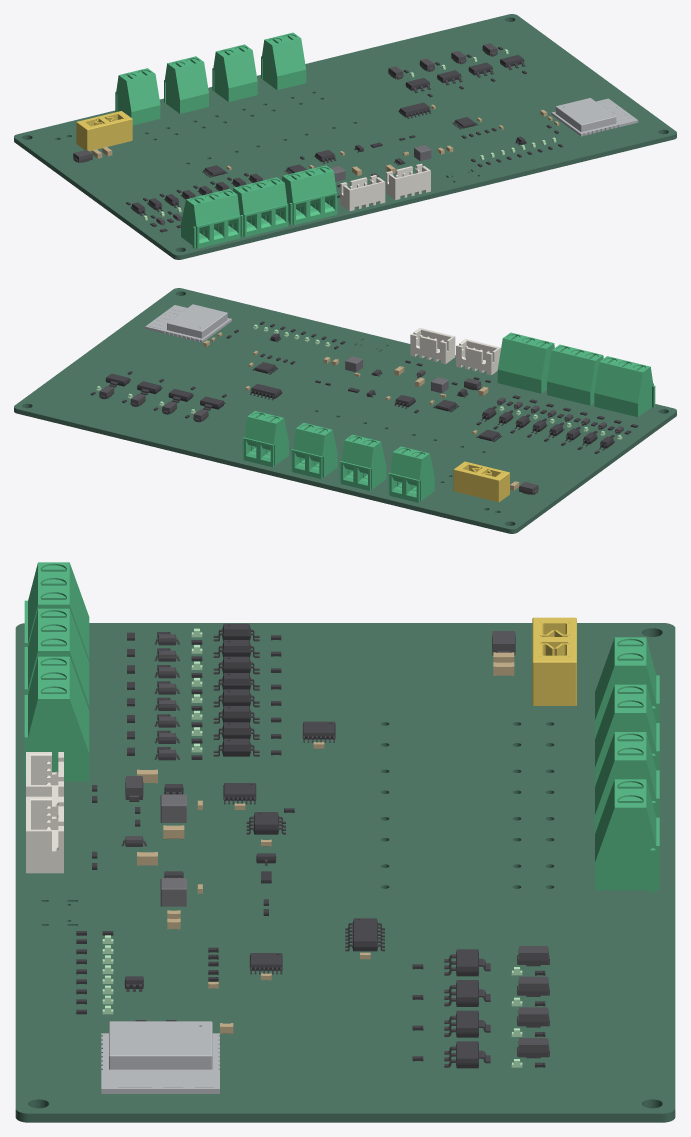
The picture shows the model from 3 angles, top to bottom: view 1: azimuth 30°, elevation 25°; view 2: azimuth 150°, elevation 25°; view 3: azimuth 270°, elevation 25°; orthographic projection. The views are drawn at different scales.
Visible parts, largest first — view 1: =>[0:1:1:26], J3, J5, J4, J8, J9, J7, U3, J6, F1, JL1, JL2; view 2: =>[0:1:1:26], J3, J5, J4, J7, J6, J9, J8, U3, F1, JL2, JL1; view 3: =>[0:1:1:26], U3, J9, J5, F1, J4, J6, J7, J8, J3, JL2, JL1 (+5 smaller).
Part boxes in pixels (<box>): =>[0:1:1:26]: <box>14,14,676,259</box>; J3: <box>181,189,240,248</box>; J5: <box>281,165,337,225</box>; J4: <box>233,177,288,237</box>; J8: <box>212,44,257,101</box>; J9: <box>261,32,306,90</box>; J7: <box>164,56,208,113</box>; U3: <box>551,98,638,136</box>; J6: <box>115,68,160,125</box>; F1: <box>76,111,132,151</box>; JL1: <box>340,175,385,211</box>; JL2: <box>386,163,430,199</box>; =>[0:1:1:26]: <box>14,288,676,533</box>; J3: <box>594,356,655,417</box>; J5: <box>497,332,554,393</box>; J4: <box>547,344,603,405</box>; J7: <box>339,434,386,490</box>; J6: <box>388,446,434,502</box>; J9: <box>242,411,288,467</box>; J8: <box>291,423,337,479</box>; U3: <box>145,304,231,342</box>; F1: <box>453,461,509,502</box>; JL2: <box>410,328,455,364</box>; JL1: <box>456,339,500,375</box>; =>[0:1:1:26]: <box>15,623,675,1122</box>; U3: <box>101,1021,219,1093</box>; J9: <box>595,779,659,892</box>; J5: <box>24,656,89,781</box>; F1: <box>532,617,576,705</box>; J4: <box>24,608,89,710</box>; J6: <box>595,637,659,738</box>; J7: <box>595,684,659,786</box>; J8: <box>595,732,659,833</box>; J3: <box>24,562,89,662</box>; JL2: <box>26,796,63,873</box>; JL1: <box>26,752,63,816</box>.
Bounding box in the file's own units: 17.6 × 1.73 × 10.
